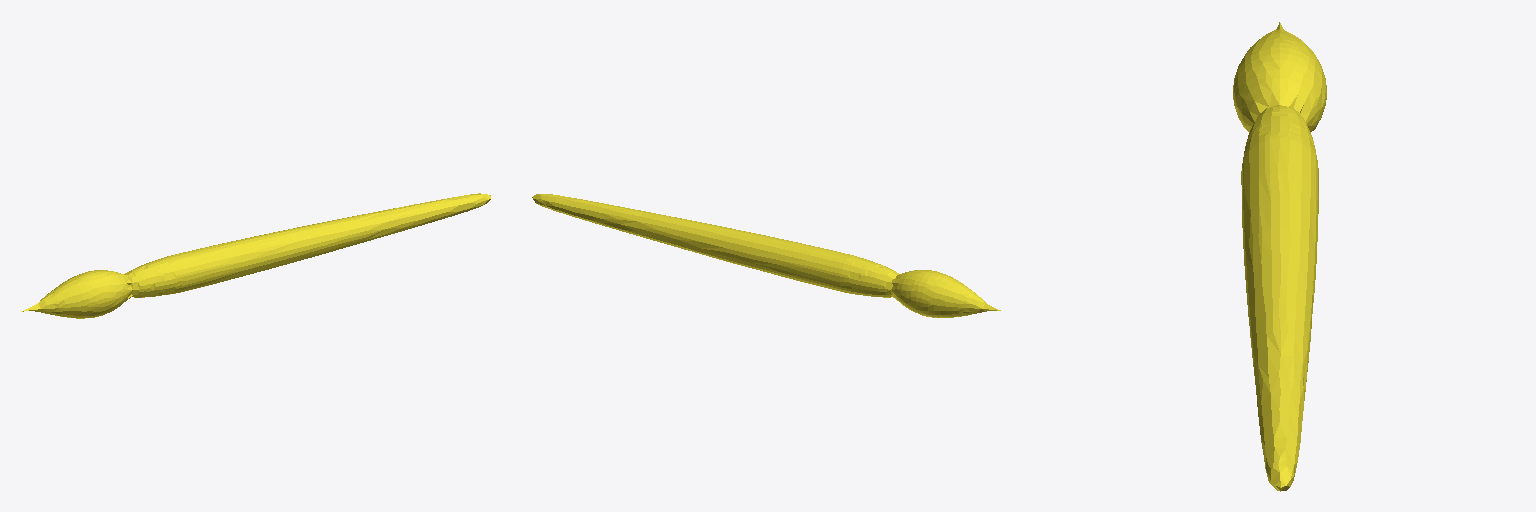
URDF robot description (panda):
<?xml version="1.0" ?>
<robot name="panda" xmlns:xacro="http://www.ros.org/wiki/xacro">
  <link name="panda_link0">
    <visual>
      <geometry>
        <mesh filename="package://franka_description/meshes/visual/link0.dae"/>
      </geometry>
    </visual>
    <collision>
      <geometry>
        <mesh filename="package://franka_description/meshes/collision/link0.obj"/>
      </geometry>
    </collision>
  </link>
  <link name="panda_link1">
    <visual>
      <geometry>
        <mesh filename="package://franka_description/meshes/visual/link1.dae"/>
      </geometry>
    </visual>
    <collision>
      <geometry>
        <mesh filename="package://franka_description/meshes/collision/link1.obj"/>
      </geometry>
    </collision>
  </link>
  <joint name="panda_joint1" type="revolute">
    <safety_controller k_position="100.0" k_velocity="40.0" soft_lower_limit="-2.8973" soft_upper_limit="2.8973"/>
    <origin rpy="0 0 0" xyz="0 0 0.333"/>
    <parent link="panda_link0"/>
    <child link="panda_link1"/>
    <axis xyz="0 0 1"/>
    <dynamics damping="10.0"/>
    <limit effort="87" lower="-2.8973" upper="2.8973" velocity="2.1750"/>
  </joint>
  <link name="panda_link2">
    <visual>
      <geometry>
        <mesh filename="package://franka_description/meshes/visual/link2.dae"/>
      </geometry>
    </visual>
    <collision>
      <geometry>
        <mesh filename="package://franka_description/meshes/collision/link2.obj"/>
      </geometry>
    </collision>
  </link>
  <joint name="panda_joint2" type="revolute">
    <safety_controller k_position="100.0" k_velocity="40.0" soft_lower_limit="-1.7628" soft_upper_limit="1.7628"/>
    <origin rpy="-1.57079632679 0 0" xyz="0 0 0"/>
    <parent link="panda_link1"/>
    <child link="panda_link2"/>
    <axis xyz="0 0 1"/>
    <dynamics damping="10.0"/>
    <limit effort="87" lower="-1.7628" upper="1.7628" velocity="2.1750"/>
  </joint>
  <link name="panda_link3">
    <visual>
      <geometry>
        <mesh filename="package://franka_description/meshes/visual/link3.dae"/>
      </geometry>
    </visual>
    <collision>
      <geometry>
        <mesh filename="package://franka_description/meshes/collision/link3.obj"/>
      </geometry>
    </collision>
  </link>
  <joint name="panda_joint3" type="revolute">
    <safety_controller k_position="100.0" k_velocity="40.0" soft_lower_limit="-2.8973" soft_upper_limit="2.8973"/>
    <origin rpy="1.57079632679 0 0" xyz="0 -0.316 0"/>
    <parent link="panda_link2"/>
    <child link="panda_link3"/>
    <axis xyz="0 0 1"/>
    <dynamics damping="10.0"/>
    <limit effort="87" lower="-2.8973" upper="2.8973" velocity="2.1750"/>
  </joint>
  <link name="panda_link4">
    <visual>
      <geometry>
        <mesh filename="package://franka_description/meshes/visual/link4.dae"/>
      </geometry>
    </visual>
    <collision>
      <geometry>
        <mesh filename="package://franka_description/meshes/collision/link4.obj"/>
      </geometry>
    </collision>
  </link>
  <joint name="panda_joint4" type="revolute">
    <safety_controller k_position="100.0" k_velocity="40.0" soft_lower_limit="-3.0718" soft_upper_limit="-0.0698"/>
    <origin rpy="1.57079632679 0 0" xyz="0.0825 0 0"/>
    <parent link="panda_link3"/>
    <child link="panda_link4"/>
    <axis xyz="0 0 1"/>    
    <dynamics damping="10.0"/>
    <limit effort="87" lower="-3.0718" upper="-0.0698" velocity="2.1750"/>
    <!-- something is weird with this joint limit config
    <dynamics damping="10.0"/>
    <limit effort="87" lower="-3.0" upper="0.087" velocity="2.1750"/>  -->
  </joint>
  <link name="panda_link5">
    <visual>
      <geometry>
        <mesh filename="package://franka_description/meshes/visual/link5.dae"/>
      </geometry>
    </visual>
    <collision>
      <geometry>
        <mesh filename="package://franka_description/meshes/collision/link5.obj"/>
      </geometry>
    </collision>
  </link>
  <joint name="panda_joint5" type="revolute">
    <safety_controller k_position="100.0" k_velocity="40.0" soft_lower_limit="-2.8973" soft_upper_limit="2.8973"/>
    <origin rpy="-1.57079632679 0 0" xyz="-0.0825 0.384 0"/>
    <parent link="panda_link4"/>
    <child link="panda_link5"/>
    <axis xyz="0 0 1"/>
    <dynamics damping="10.0"/>
    <limit effort="12" lower="-2.8973" upper="2.8973" velocity="2.6100"/>
  </joint>
  <link name="panda_link6">
    <visual>
      <geometry>
        <mesh filename="package://franka_description/meshes/visual/link6.dae"/>
      </geometry>
    </visual>
    <collision>
      <geometry>
        <mesh filename="package://franka_description/meshes/collision/link6.obj"/>
      </geometry>
    </collision>
  </link>
  <joint name="panda_joint6" type="revolute">
    <safety_controller k_position="100.0" k_velocity="40.0" soft_lower_limit="-0.0175" soft_upper_limit="3.7525"/>
    <origin rpy="1.57079632679 0 0" xyz="0 0 0"/>
    <parent link="panda_link5"/>
    <child link="panda_link6"/>
    <axis xyz="0 0 1"/>
    <dynamics damping="10.0"/>
    <limit effort="12" lower="-0.0175" upper="3.7525" velocity="2.6100"/>
    <!-- <dynamics damping="10.0"/>
    <limit effort="12" lower="-0.0873" upper="3.0" velocity="2.6100"/> -->
  </joint>
  <link name="panda_link7">
    <visual>
      <geometry>
        <mesh filename="package://franka_description/meshes/visual/link7.dae"/>
      </geometry>
    </visual>
    <collision>
      <geometry>
        <mesh filename="package://franka_description/meshes/collision/link7.obj"/>
      </geometry>
    </collision>
  </link>
  <joint name="panda_joint7" type="revolute">
    <safety_controller k_position="100.0" k_velocity="40.0" soft_lower_limit="-2.8973" soft_upper_limit="2.8973"/>
    <origin rpy="1.57079632679 0 0" xyz="0.088 0 0"/>
    <parent link="panda_link6"/>
    <child link="panda_link7"/>
    <axis xyz="0 0 1"/>
    <dynamics damping="10.0"/>
    <limit effort="12" lower="-2.8973" upper="2.8973" velocity="2.6100"/>
  </joint>
  <!--
  <link name="panda_link8"/>
  <joint name="panda_joint8" type="fixed">
    <origin rpy="0 0 0" xyz="0 0 0.107"/>
    <parent link="panda_link7"/>
    <child link="panda_link8"/>
    <axis xyz="0 0 0"/>
  </joint>
  Removing this joint seems to help with some stability things
  -->
  <joint name="panda_hand_joint" type="fixed">
    <!--
    <parent link="panda_link8"/>
    -->
    <parent link="panda_link7"/>
    <child link="panda_hand"/>
    <origin rpy="0 0 -0.785398163397" xyz="0 0 0.107"/>
    <!--
    <origin rpy="0 0 -0.785398163397" xyz="0 0 0"/>
    -->
  </joint>
  <link name="panda_hand">
    <visual>
      <geometry>
        <mesh filename="package://franka_description/meshes/visual/hand.dae"/>
      </geometry>
    </visual>
    <collision>
      <geometry>
        <mesh filename="package://franka_description/meshes/collision/hand.obj"/>
      </geometry>
    </collision>
  </link>
  <link name="panda_leftfinger">
    <visual>
      <geometry>
        <mesh filename="package://franka_description/meshes/visual/finger.dae"/>
      </geometry>
    </visual>
    <collision>
      <geometry>
        <mesh filename="package://franka_description/meshes/collision/finger.obj"/>
      </geometry>
    </collision>
  </link>
  <link name="panda_rightfinger">
    <visual>
      <origin rpy="0 0 3.14159265359" xyz="0 0 0"/>
      <geometry>
        <mesh filename="package://franka_description/meshes/visual/finger.dae"/>
      </geometry>
    </visual>
    <collision>
      <origin rpy="0 0 3.14159265359" xyz="0 0 0"/>
      <geometry>
        <mesh filename="package://franka_description/meshes/collision/finger.obj"/>
      </geometry>
    </collision>
  </link>

  <link name="brush">
    <visual>
      <origin rpy="0 1.571 0 " xyz="0 0 0"/>
      <geometry>
        <mesh filename="package://franka_description/meshes/brush_simple.obj" scale="0.01 0.01 0.01"/>
      </geometry>
    </visual>
    <collision>
      <origin rpy="0 1.571 0 " xyz="0 0 0"/>
      <geometry>
        <mesh filename="package://franka_description/meshes/brush_simple.obj" scale="0.01 0.01 0.01"/>
      </geometry>
    </collision>
  </link>

  <joint name="panda_finger_joint1" type="prismatic">
    <parent link="panda_hand"/>
    <child link="panda_leftfinger"/>
    <origin rpy="0 0 0" xyz="0 0 0.0584"/>
    <axis xyz="0 1 0"/>
    <dynamics damping="10.0"/>
    <limit effort="20" lower="0.0" upper="0.04" velocity="0.2"/>
  </joint>
  <joint name="panda_finger_joint2" type="prismatic">
    <parent link="panda_hand"/>
    <child link="panda_rightfinger"/>
    <origin rpy="0 0 0" xyz="0 0 0.0584"/>
    <axis xyz="0 -1 0"/>
    <dynamics damping="10.0"/>
    <limit effort="20" lower="0.0" upper="0.04" velocity="0.2"/>
    <mimic joint="panda_finger_joint1"/>
  </joint>
  <joint name="panda_brush_joint" type="fixed">
    <parent link="panda_hand"/>
    <child link="brush"/>
    <origin rpy="0 0 0" xyz="0 0 0.0584"/>
  </joint>
</robot>

--- What the picture shows (computed from the rendered views, not written in the file) ---
3 views of the same robot in one strip: view 1: azimuth 30°, elevation 25°; view 2: azimuth 150°, elevation 25°; view 3: azimuth 270°, elevation 25° (orthographic).
Model panda with 12 links and 11 joints (7 revolute, 2 prismatic, 2 fixed), rooted at panda_link0, posed all joints at 0 but 1 set to mid-range because 0 is outside their limits (panda_joint4 = -1.57).
Links seen in each view (by area): view 1: brush; view 2: brush; view 3: brush.
Boxes of the visible links, <box> form: brush: <box>21,193,490,318</box>; brush: <box>532,194,1000,317</box>; brush: <box>1233,22,1326,491</box>.
Bounding box of the posed robot: 0.2553 × 0.0218 × 0.0218 m (x, y, z).
Meshes: 11 distinct files referenced, 1 mesh visuals loaded (1 OBJ); not drawn: 11 (reference not matched to a file when rendering).